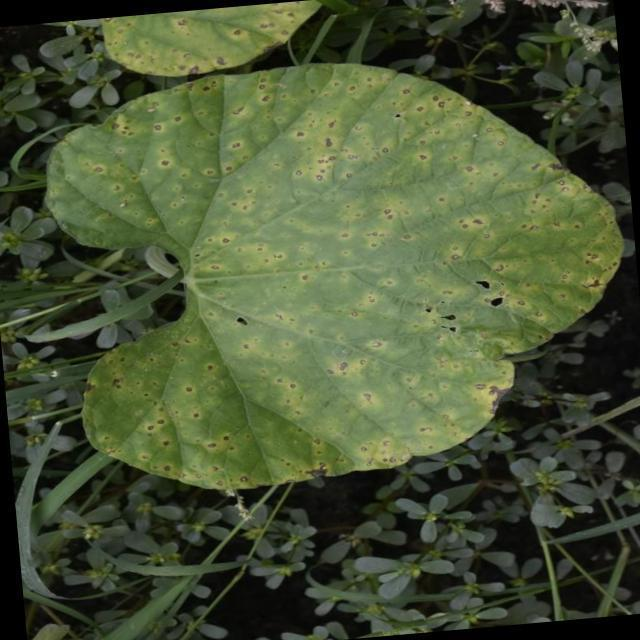Bacterial Spot: (167, 68, 533, 476), (110, 1, 296, 79)
